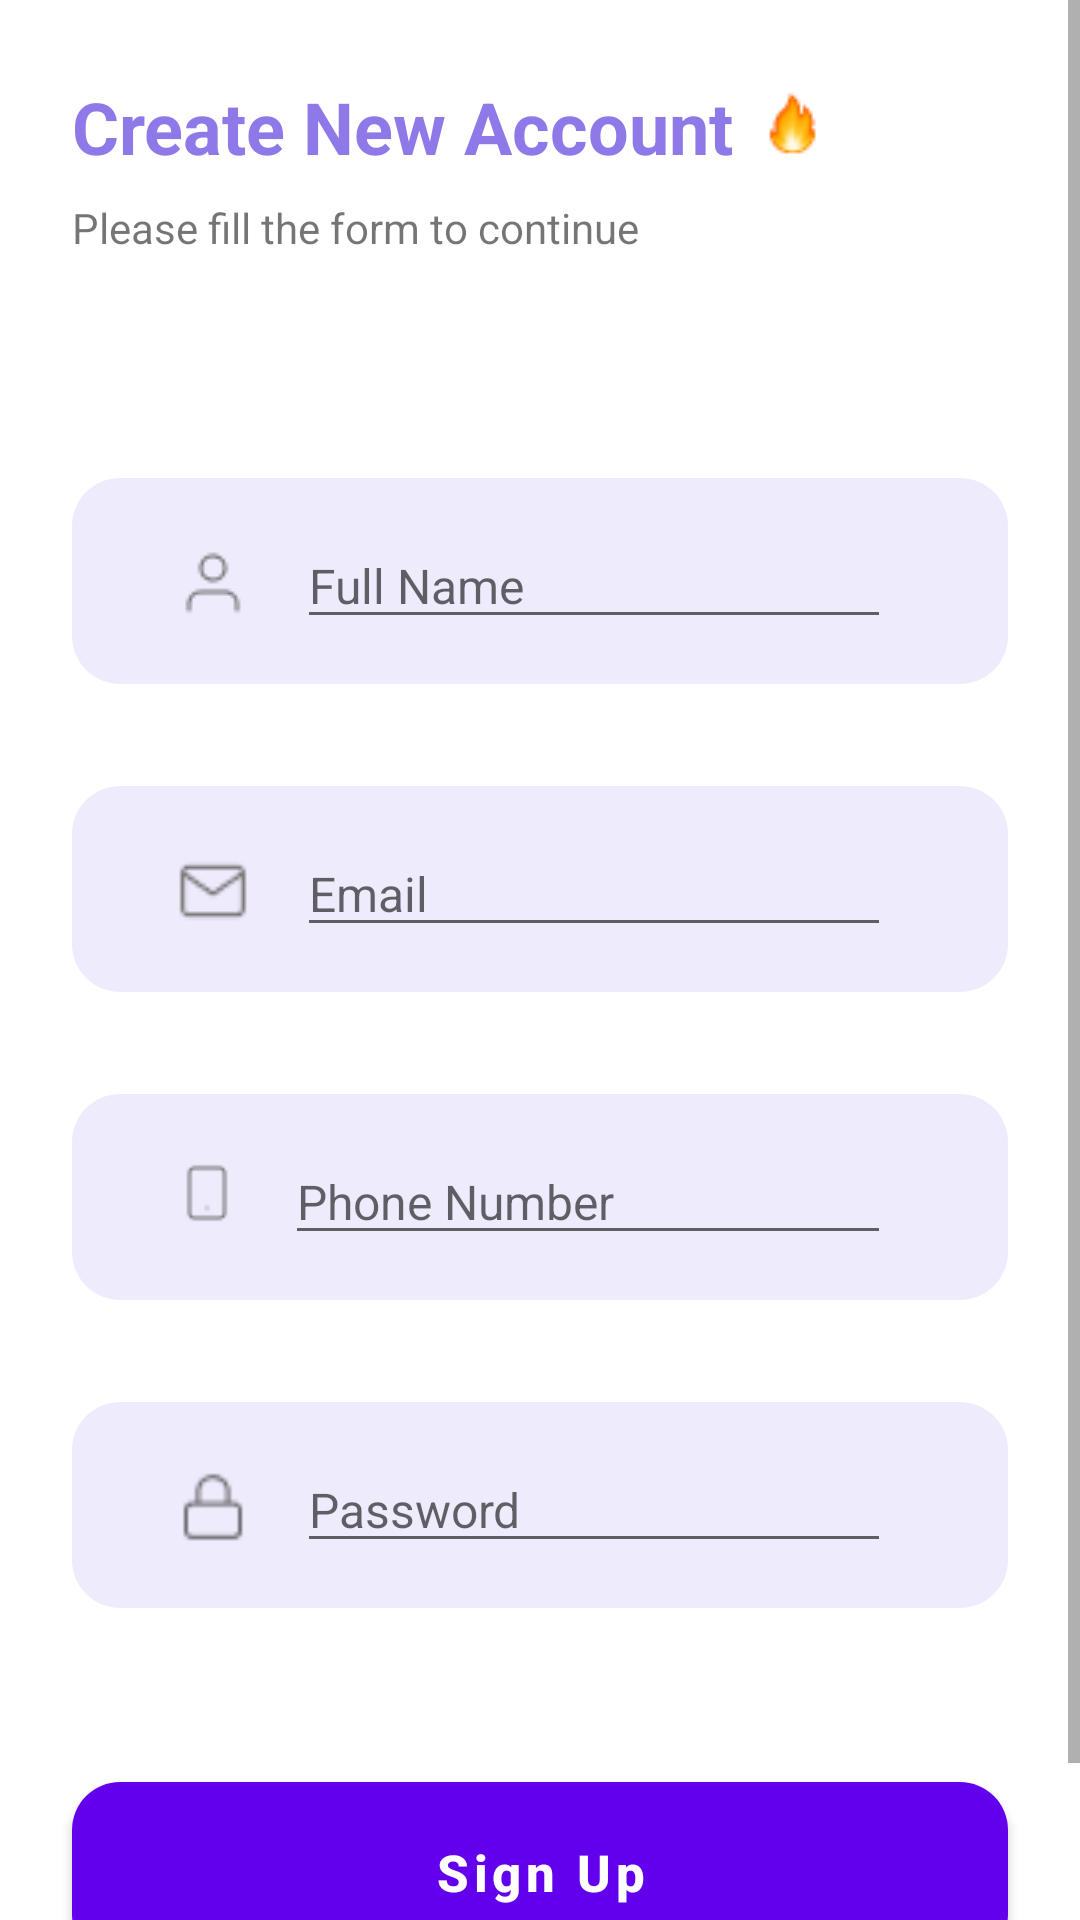

Screen size 1080px x 1920px. Icon name, then its box in pixels as (x1=x1, y1=y1, x2=x2, y2=y2):
iconfire: (x1=769, y1=93, x2=816, y2=154)
lock: (x1=183, y1=1474, x2=243, y2=1541)
smartphone: (x1=187, y1=1165, x2=227, y2=1221)
user: (x1=185, y1=552, x2=241, y2=612)
